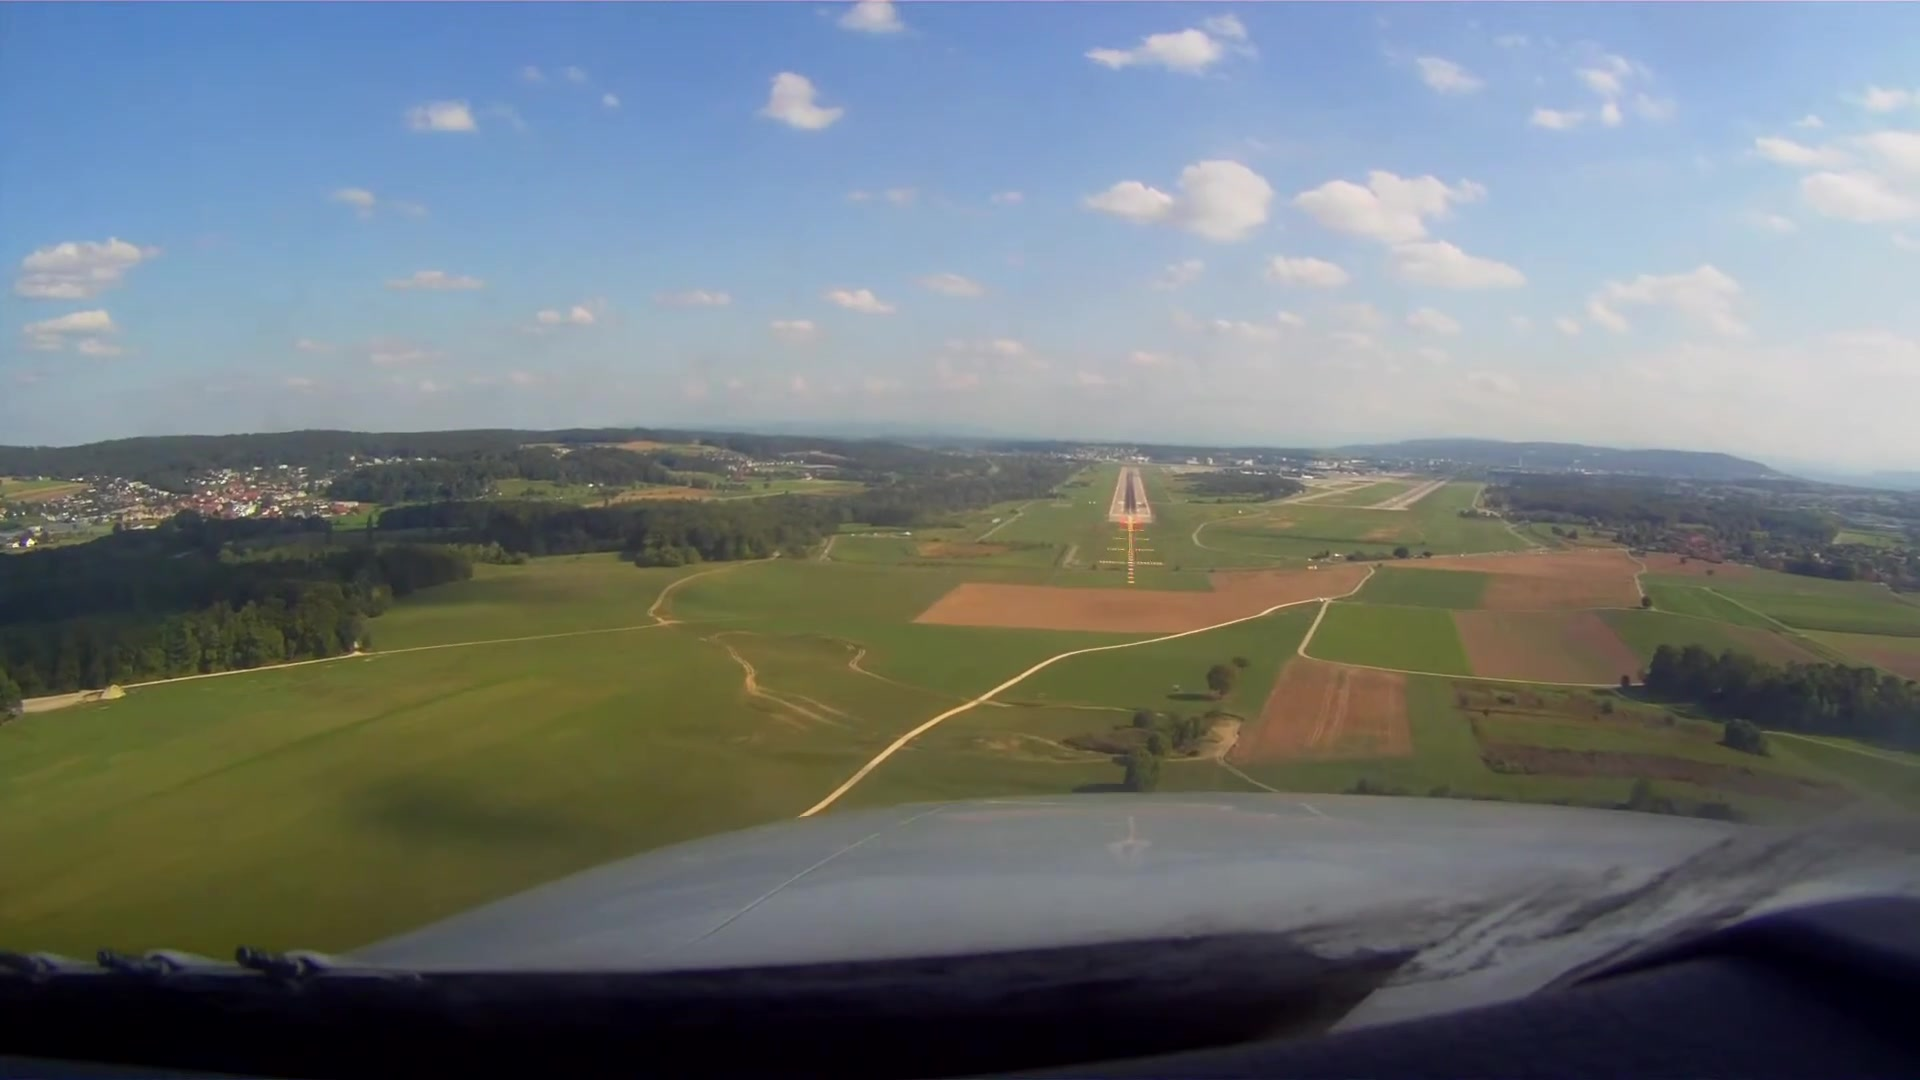runway: (1110, 467, 1158, 521), (1377, 477, 1443, 510)
